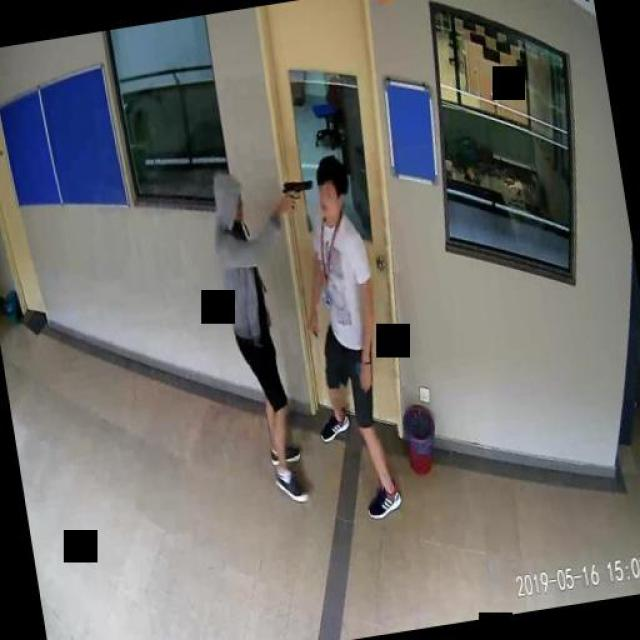gun: (279, 174, 315, 214)
